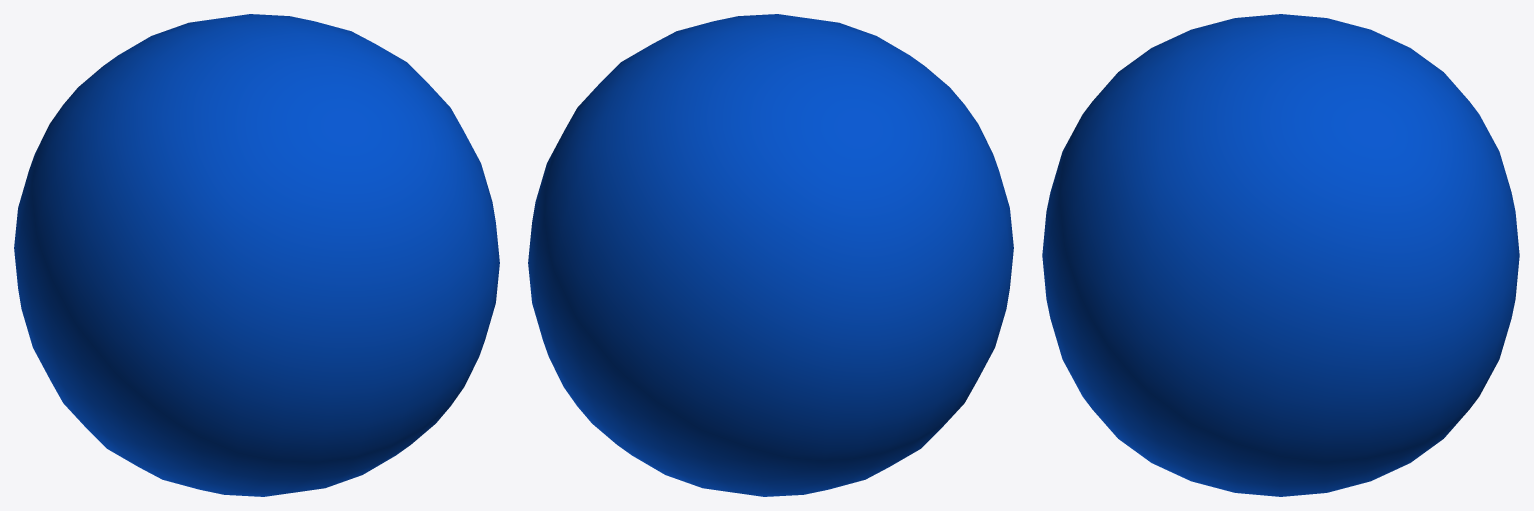
The model's file is mm_ball.glb.
3 views of the same model, side by side, from view 1: azimuth 30°, elevation 25°; view 2: azimuth 150°, elevation 25°; view 3: azimuth 270°, elevation 25° (orthographic).
Visible parts, largest first — view 1: Ball; view 2: Ball; view 3: Ball.
Part boxes in pixels (box(x1,y1,x2,y2)): Ball: box(14, 14, 499, 496); Ball: box(528, 14, 1013, 496); Ball: box(1042, 14, 1519, 496).
Bounding box in the file's own units: 1.68 × 1.68 × 1.68.
1 material, 1 textured.
